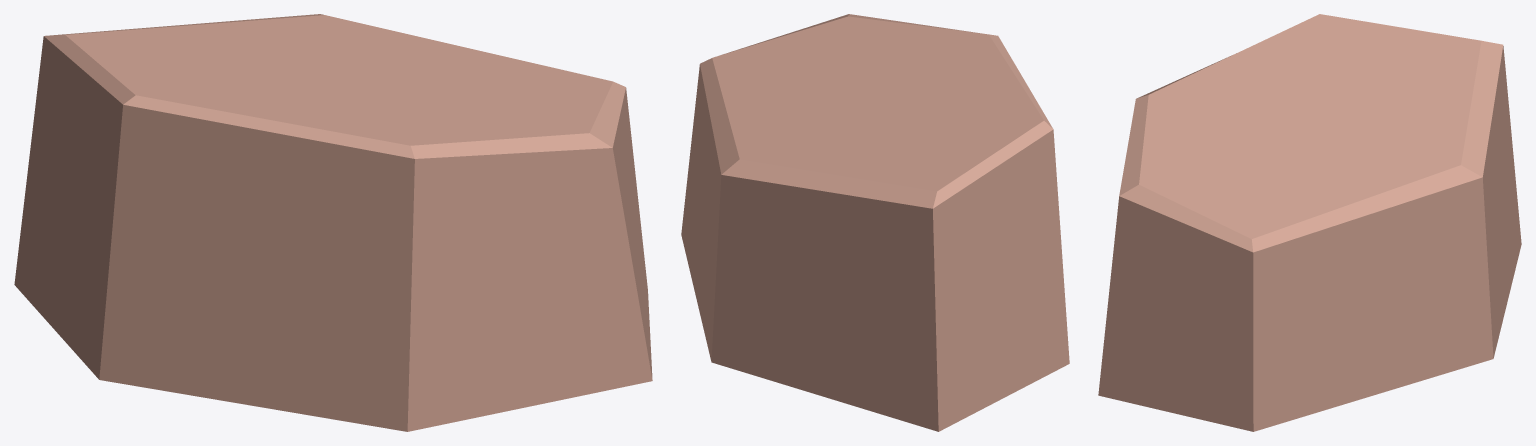
The model's file is Rock_Mesa_Medium_7.fbx.
3 renders of one model, left to right at view 1: azimuth 30°, elevation 25°; view 2: azimuth 150°, elevation 25°; view 3: azimuth 270°, elevation 25°, orthographic. The views are drawn at different scales.
Visible parts, largest first — view 1: Rock; view 2: Rock; view 3: Rock.
Boxes of the visible parts, <box> form: Rock: <box>14,14,652,431</box>; Rock: <box>681,14,1069,431</box>; Rock: <box>1098,14,1521,431</box>.
Bounding box in the file's own units: 60.69 × 32.19 × 53.81.
